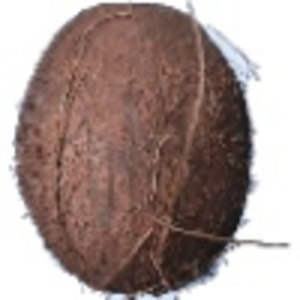coco: (15, 3, 259, 300)
